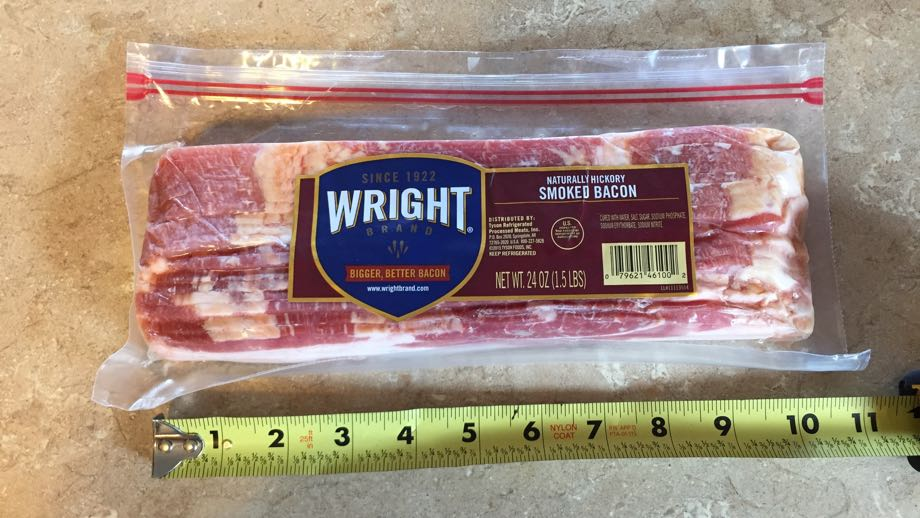bacon: (133, 118, 832, 355)
